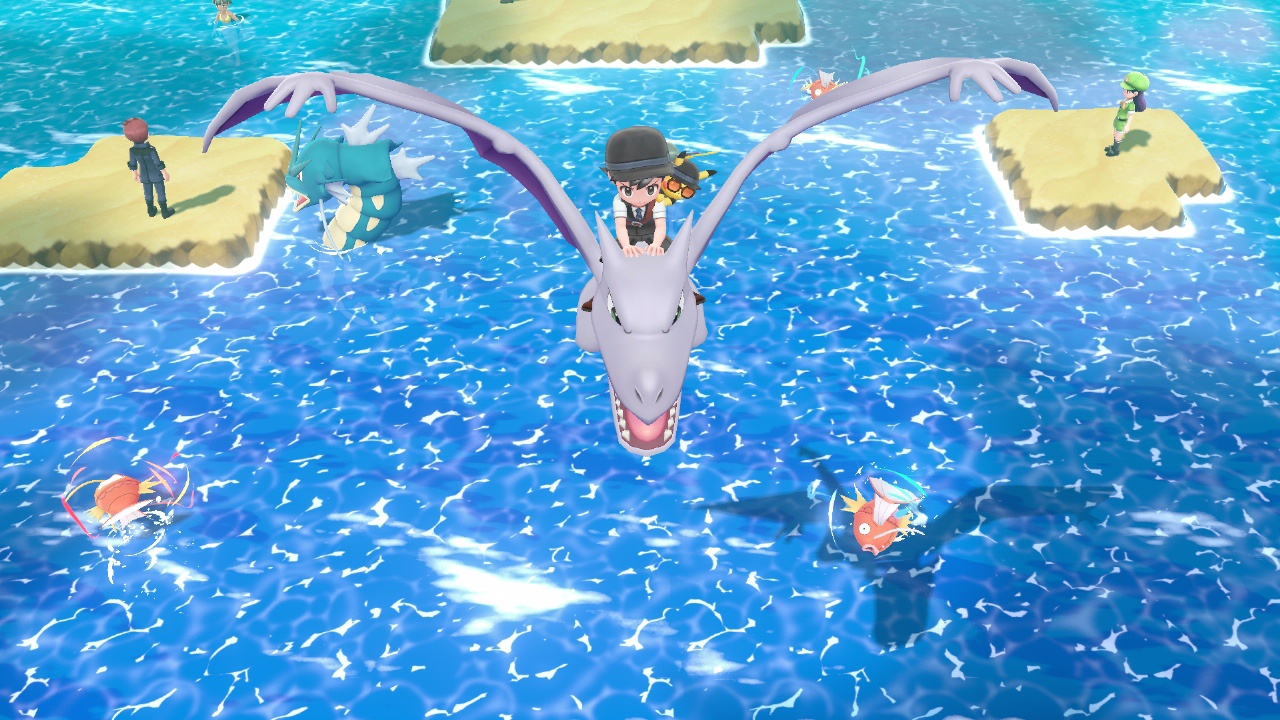Red: (841, 474, 918, 556), (94, 472, 160, 532), (803, 72, 848, 102)
